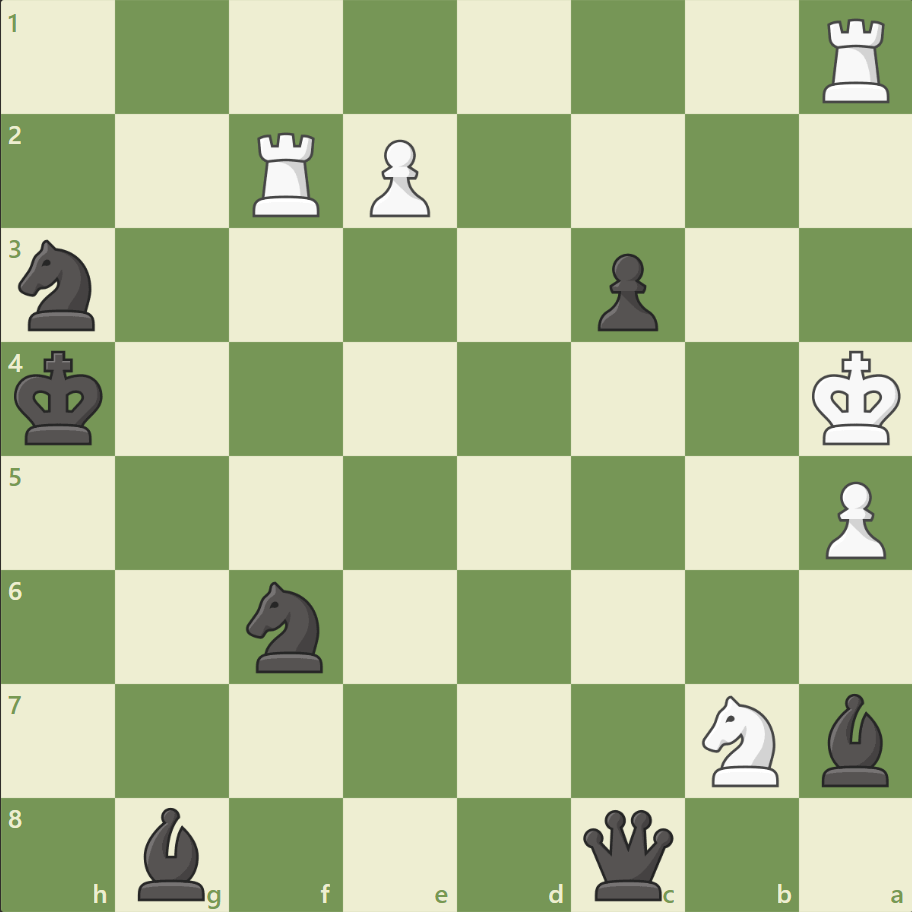K: (806, 344, 906, 452)
N: (692, 688, 789, 791)
P: (815, 473, 889, 564), (361, 132, 435, 223)
R: (246, 125, 329, 222), (814, 12, 897, 109)
b: (131, 801, 215, 904), (812, 687, 896, 790)
k: (11, 344, 111, 452)
n: (11, 234, 108, 337), (238, 575, 335, 677)
p: (588, 246, 662, 337)
q: (578, 804, 677, 903)
